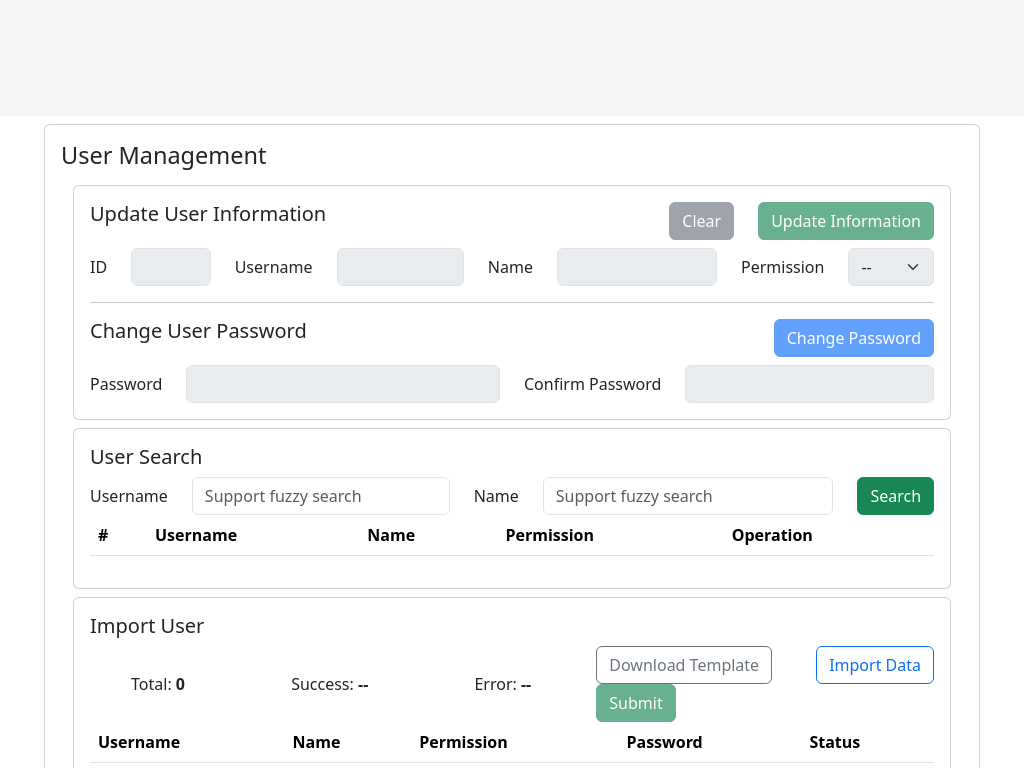
Test: UserManage Component › handles password mismatch on password change
(page scrolled)
Type "newpassword" into the password field labelled "Password".
click(343, 384); type("newpassword")  # box x1=186 y1=365 x2=500 y2=403
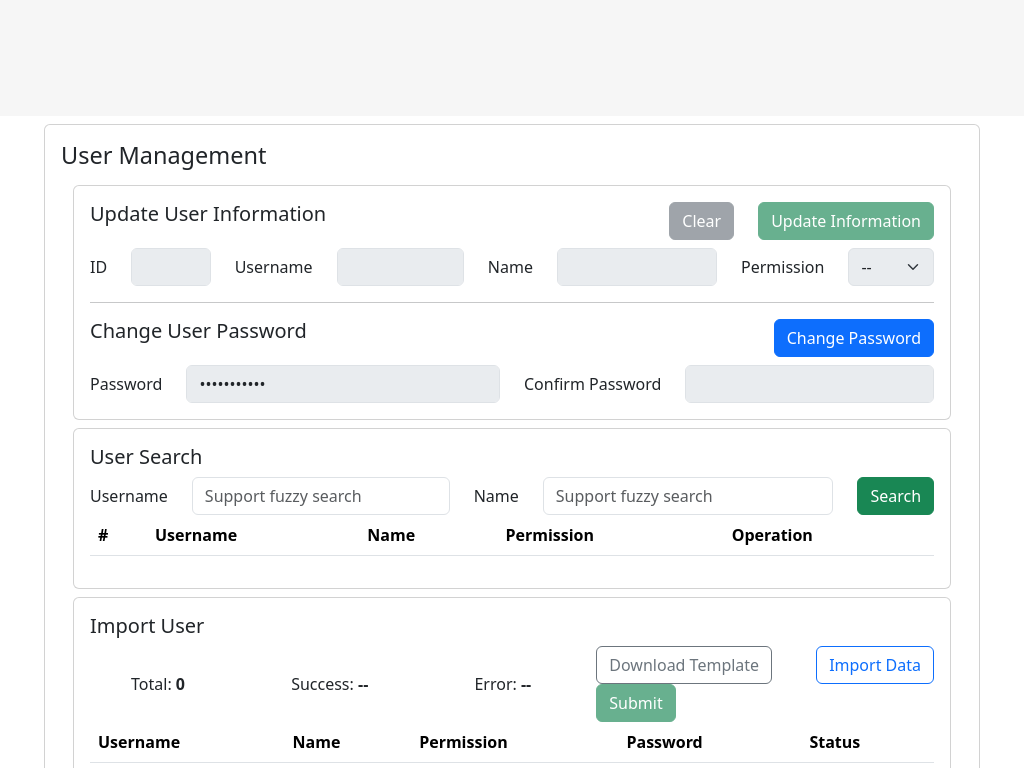
Type "differentpassword" into the password field labelled "Confirm Password".
click(810, 384); type("differentpassword")  # box x1=685 y1=365 x2=934 y2=403
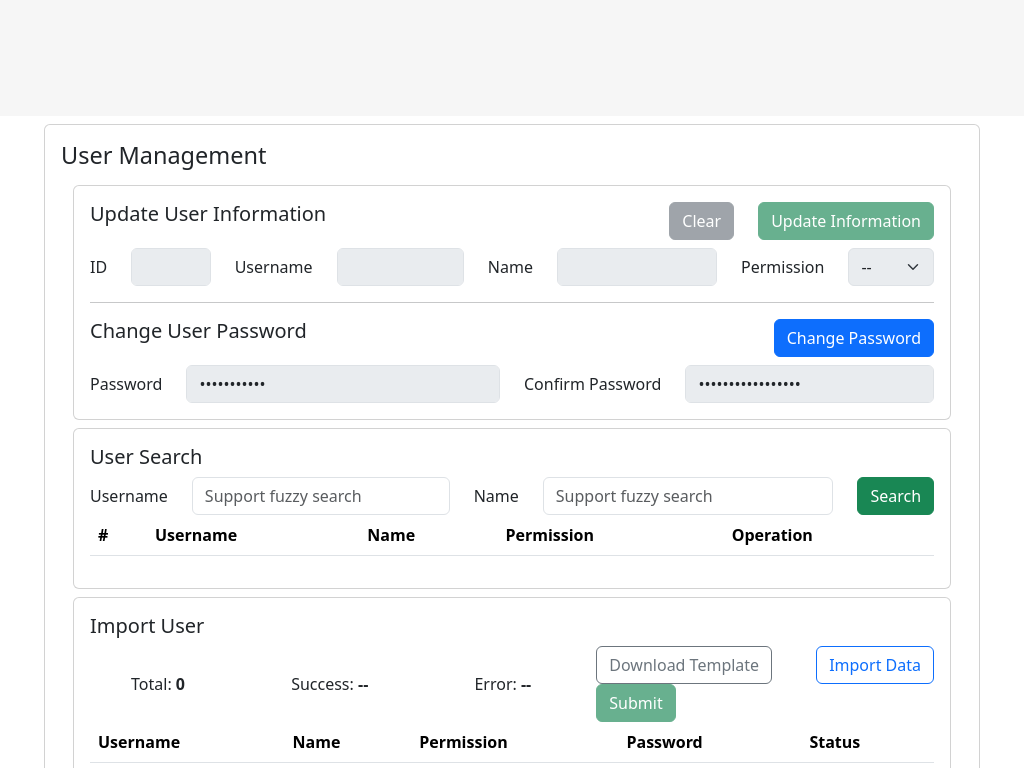
Click the button "Change Password".
click(854, 338)  # box x1=774 y1=319 x2=934 y2=357
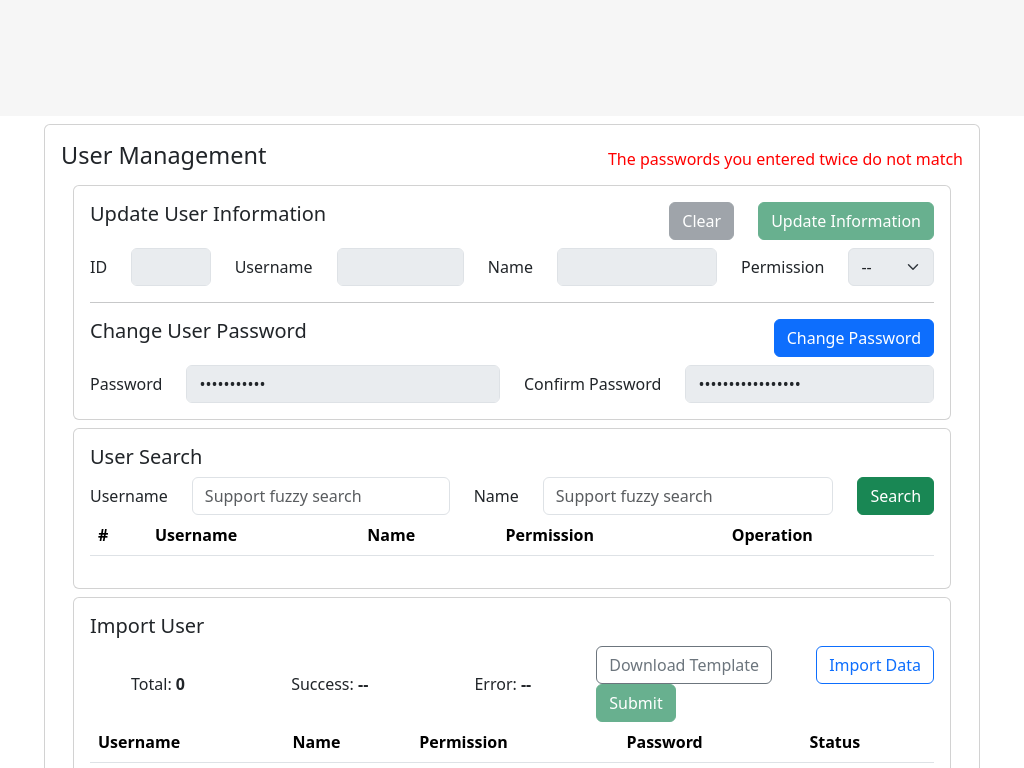
Result: the text "The passwords you entered twice do not match" is shown at x1=608 y1=147 x2=963 y2=171
